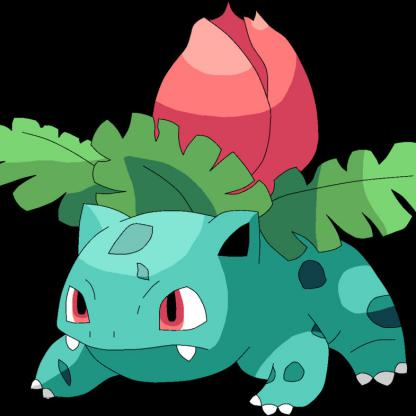Ivysaur: (1, 1, 416, 416)
